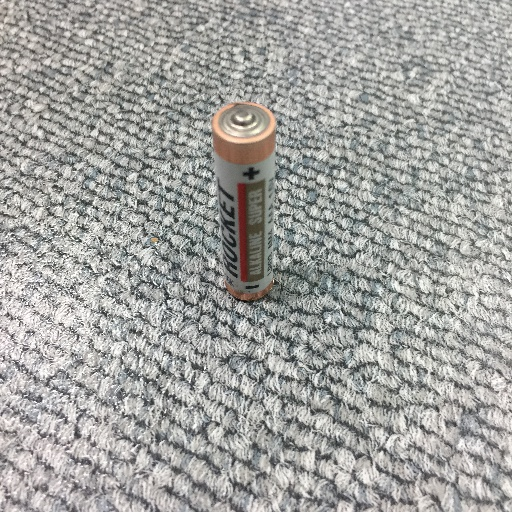Battery_0: (202, 92, 289, 310)
